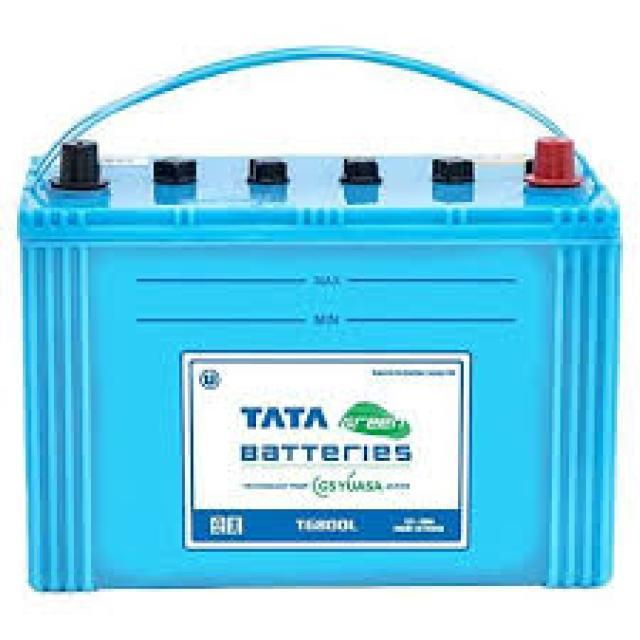Battery: (2, 24, 639, 640)
